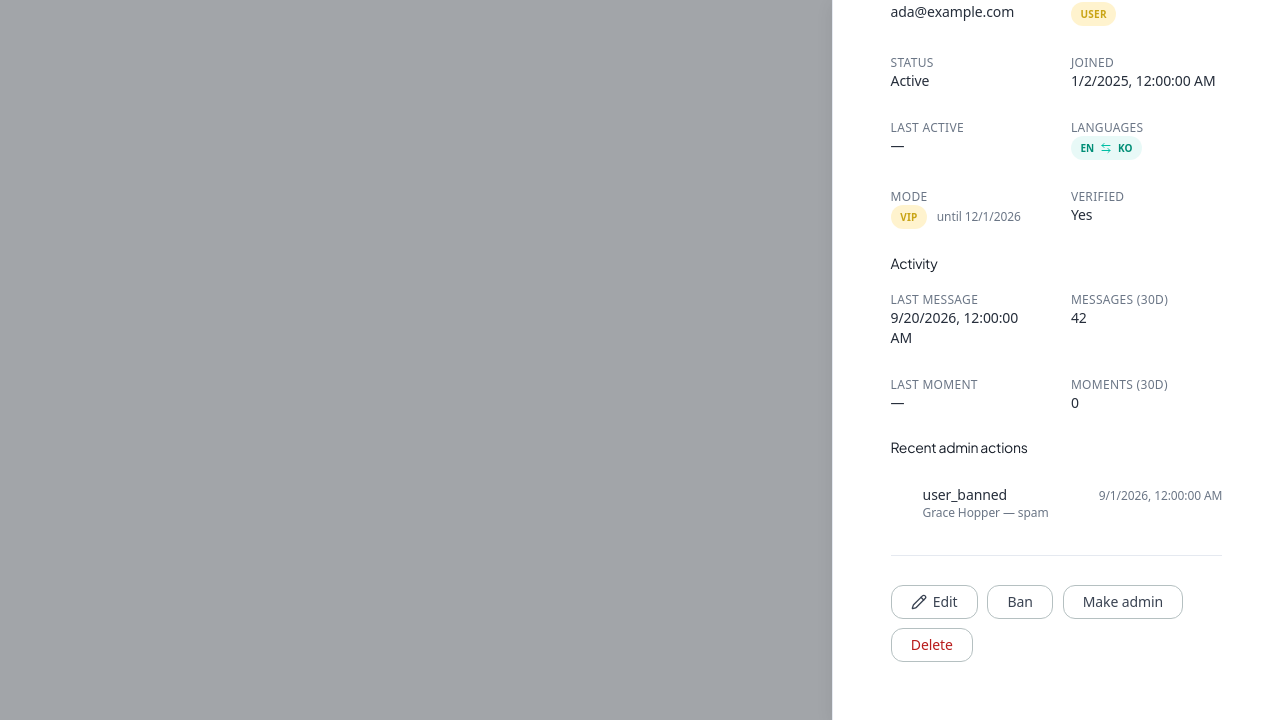
Test: keeps the drawer open when Escape closes the edit dialog's own layer
(page scrolled)
Click the button with test id "drawer-edit" at [934, 602], box [891,585,978,619]
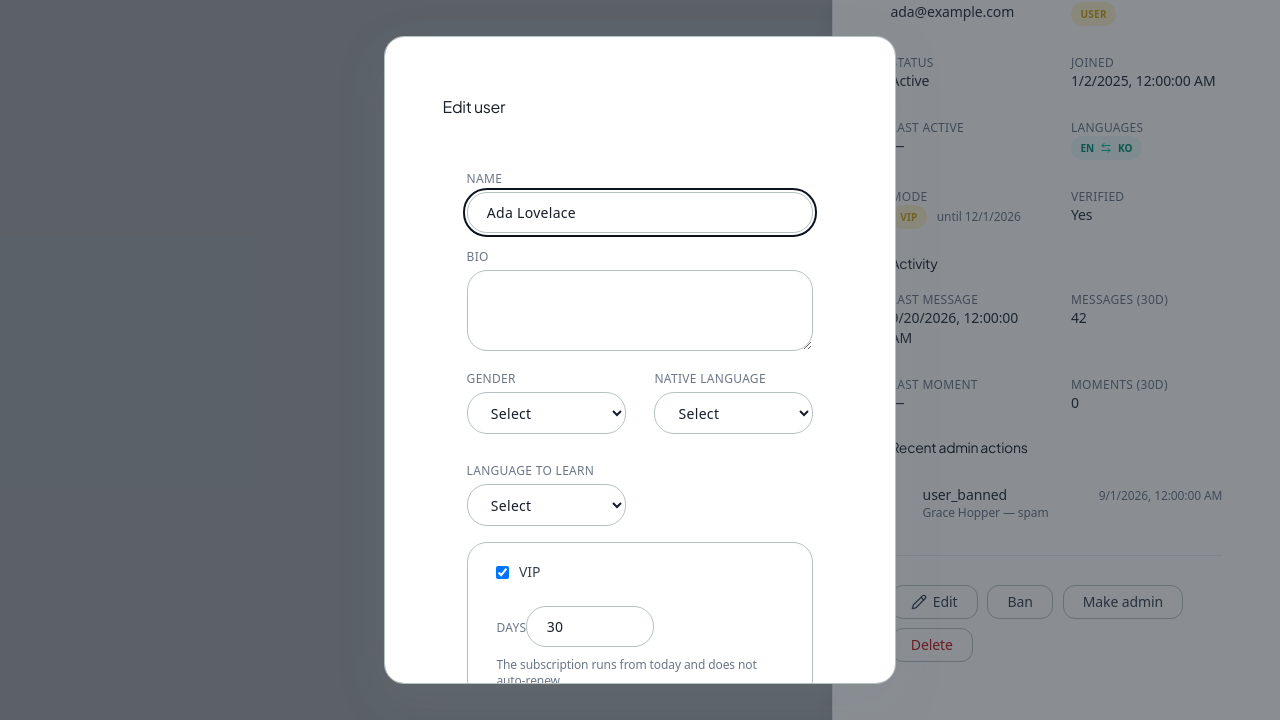
Press Escape
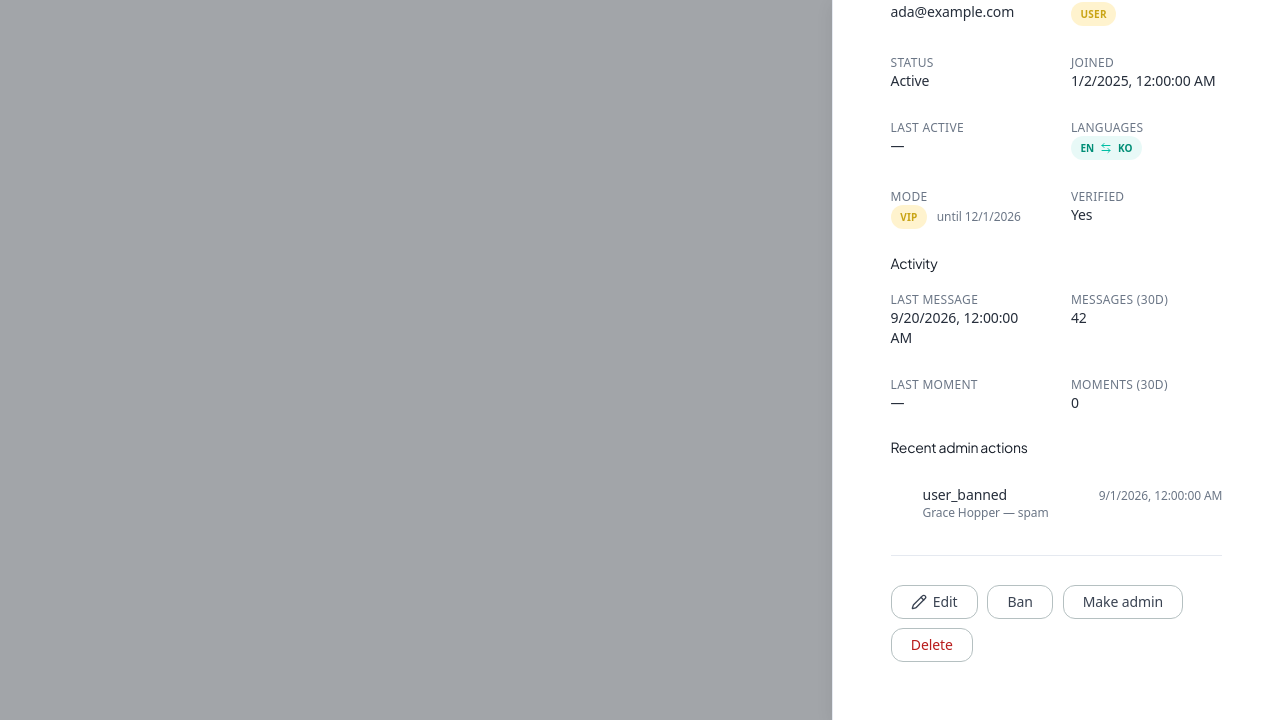
expect the dialog with test id "edit-user-dialog" is gone: met
